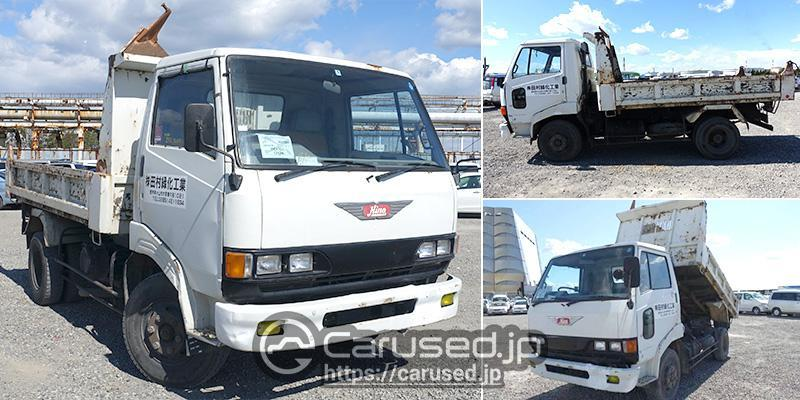car: (452, 165, 481, 217), (766, 286, 800, 317), (734, 290, 771, 315), (483, 295, 510, 315), (509, 297, 529, 314)
truck: (0, 40, 454, 389), (498, 1, 800, 166), (517, 199, 745, 398)
